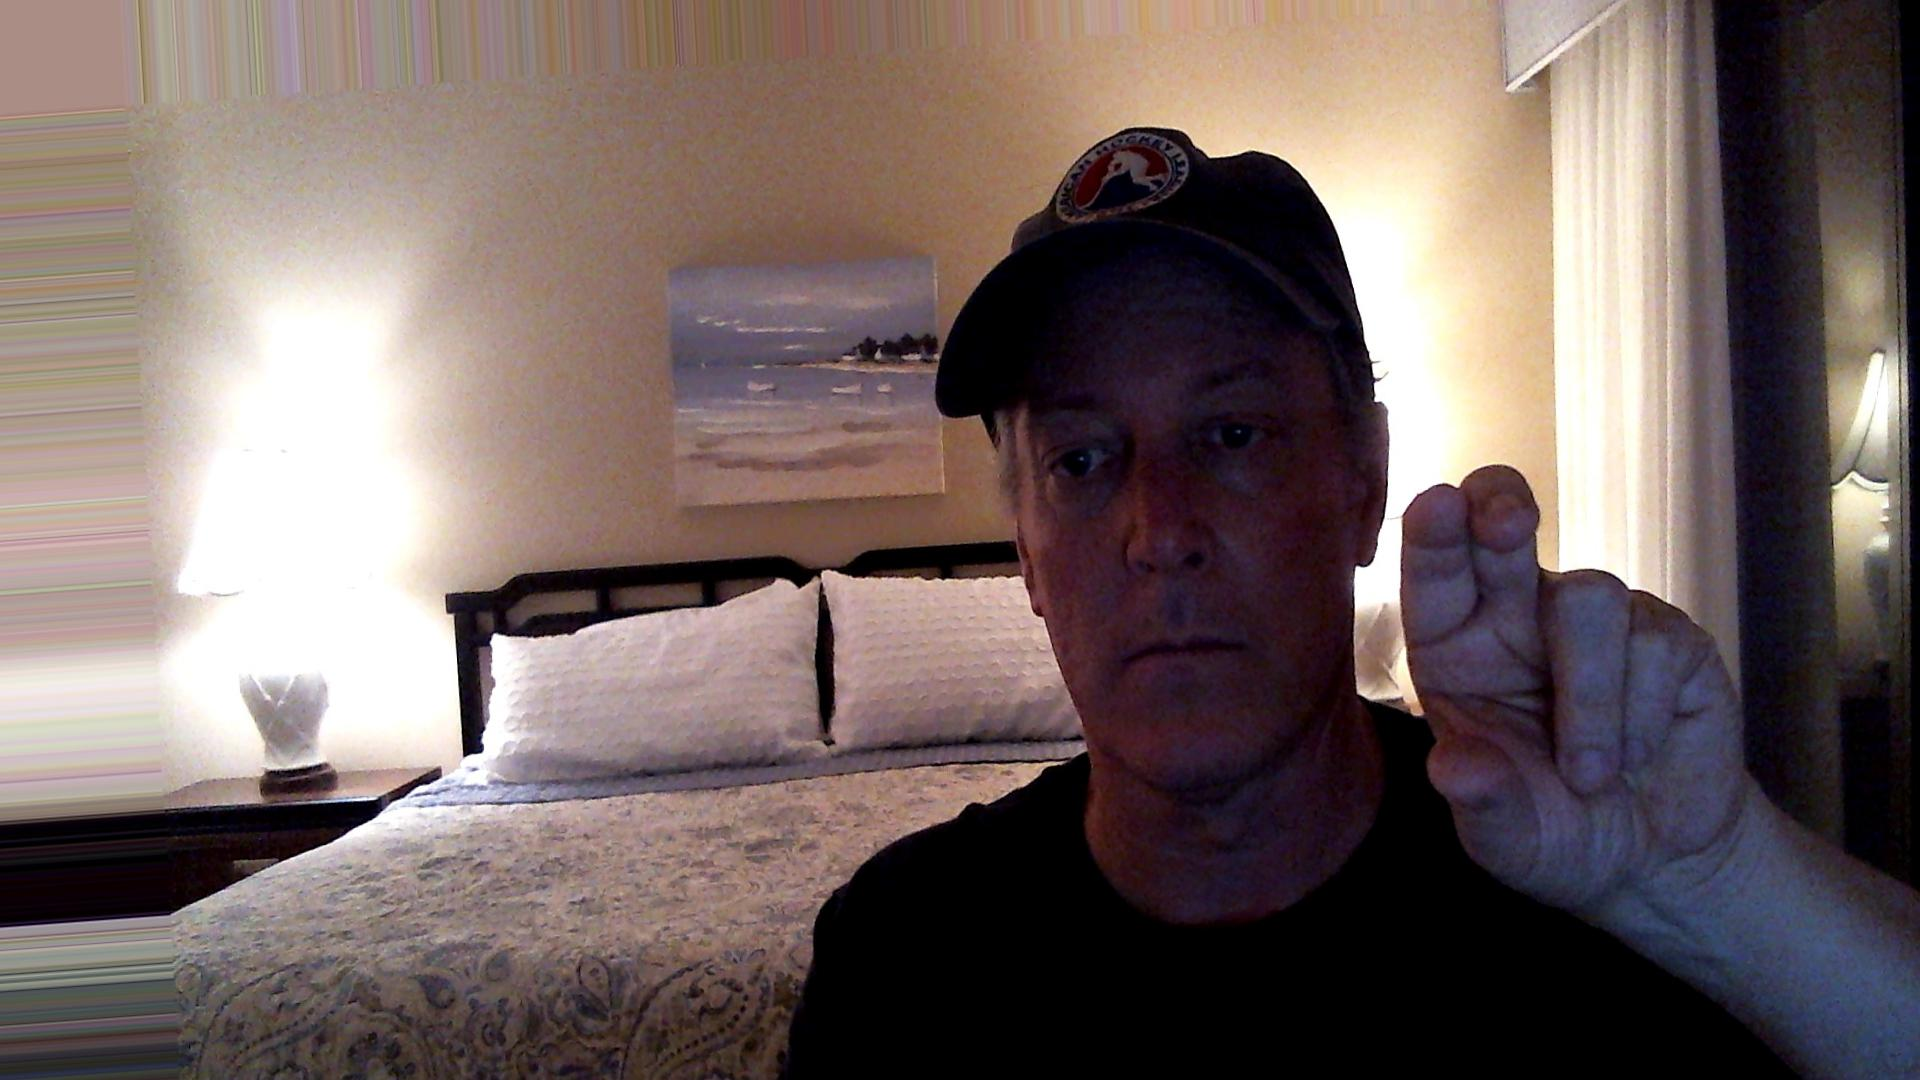No: (1341, 438, 1836, 942)
